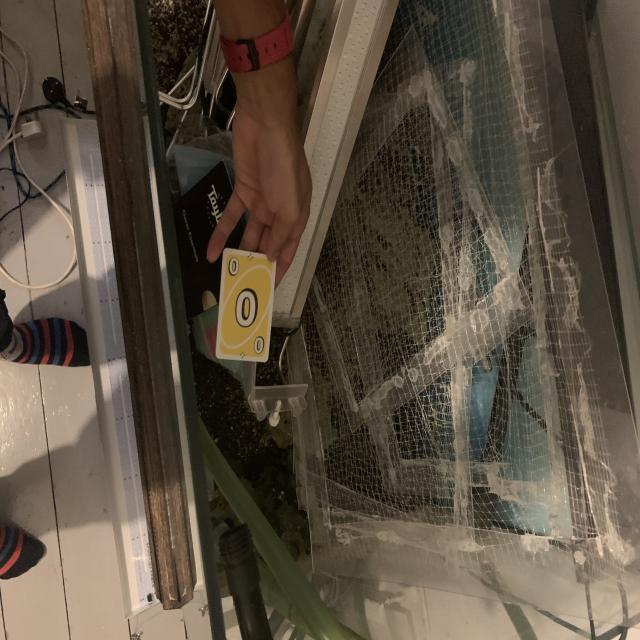lyellow-0: (226, 254, 242, 279)
